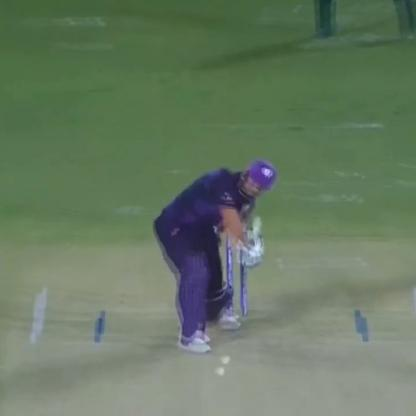bat: (241, 209, 269, 256)
pitch: (0, 307, 416, 413), (215, 350, 233, 364), (211, 365, 232, 377)
